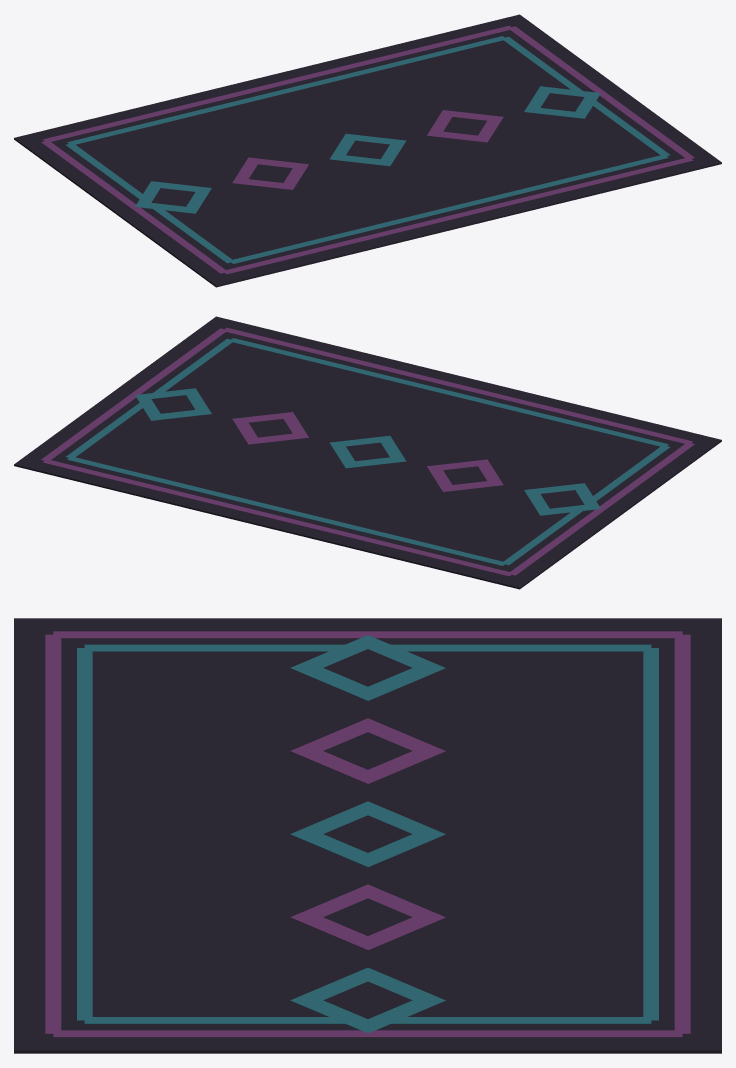
The model's file is Deco_Rug_Geo.001.gltf.
3 views of the same model, one above another, from view 1: azimuth 30°, elevation 25°; view 2: azimuth 150°, elevation 25°; view 3: azimuth 270°, elevation 25° (orthographic). The views are drawn at different scales.
Visible parts, largest first — view 1: Deco_Rug_Geo.001; view 2: Deco_Rug_Geo.001; view 3: Deco_Rug_Geo.001.
Part boxes in pixels (x1=…): Deco_Rug_Geo.001: x1=14, y1=14, x2=721, y2=287; Deco_Rug_Geo.001: x1=14, y1=316, x2=721, y2=589; Deco_Rug_Geo.001: x1=14, y1=618, x2=721, y2=1053.
Size of the model in its own units: 2.6 by 0.00955 by 1.8.
